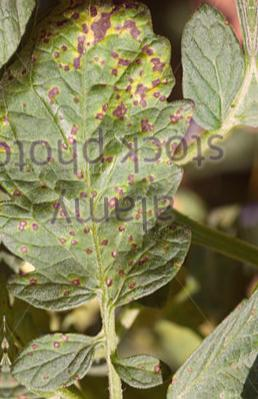Tomato Septoria leaf spot: (0, 0, 199, 315)
